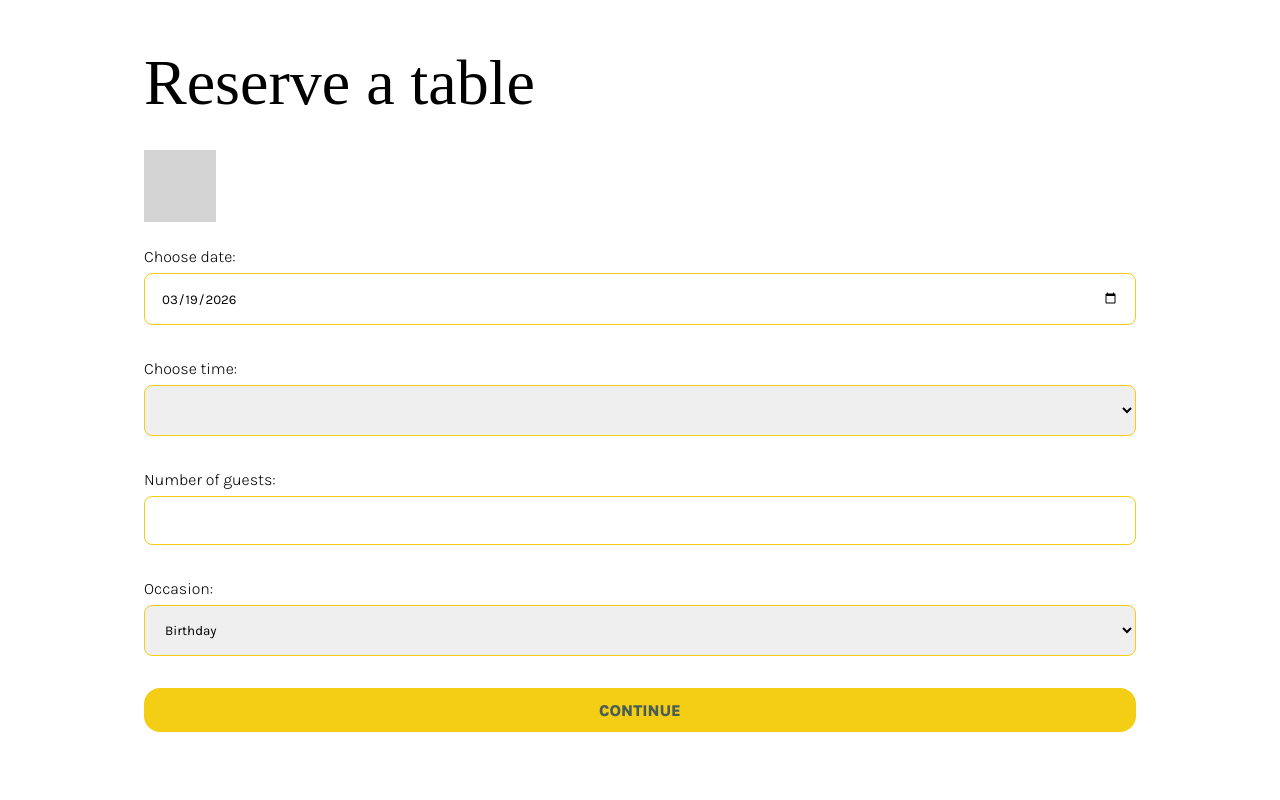
Test case: BookingPage › Booking form errors › should validate the date field
The image size is (1280, 800).
Clear the date field labelled "Choose date:": [640, 299] box [144,273,1136,325]
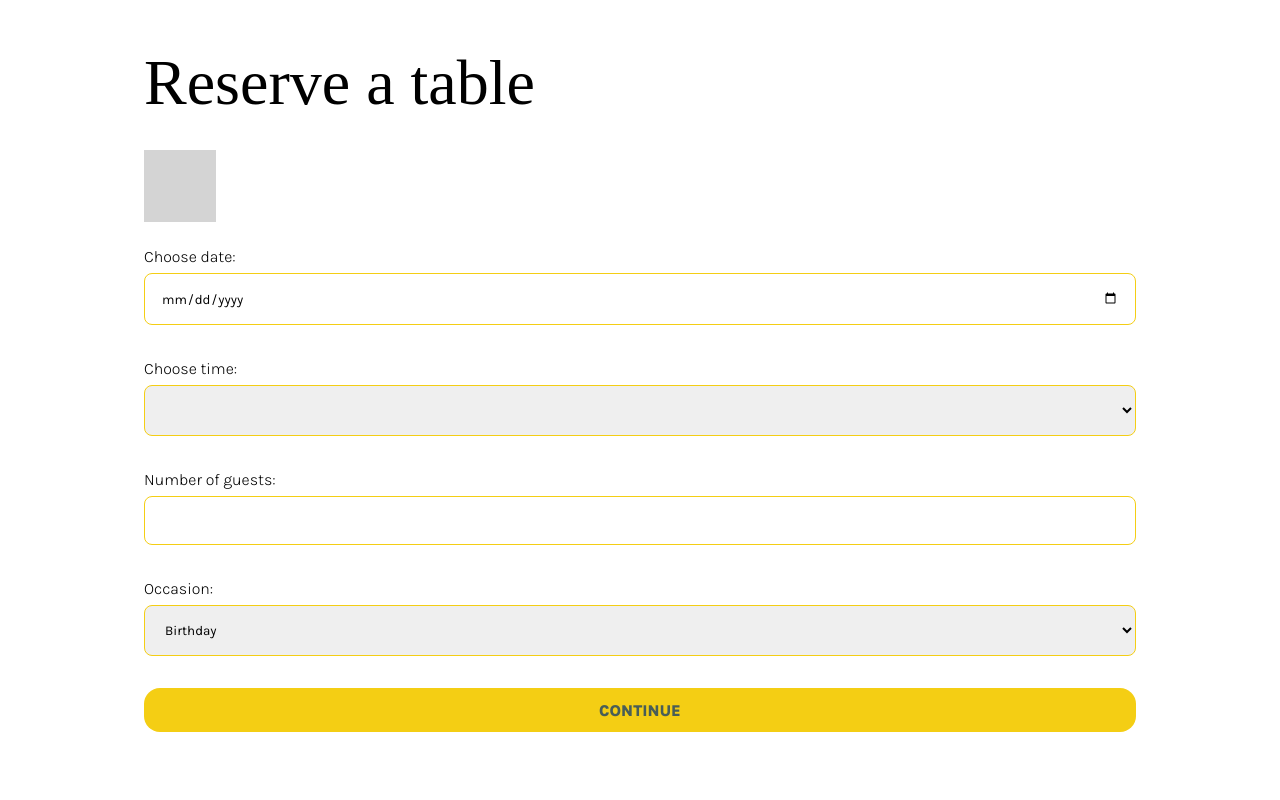
Leave the date field labelled "Choose date:", box [144,273,1136,325]
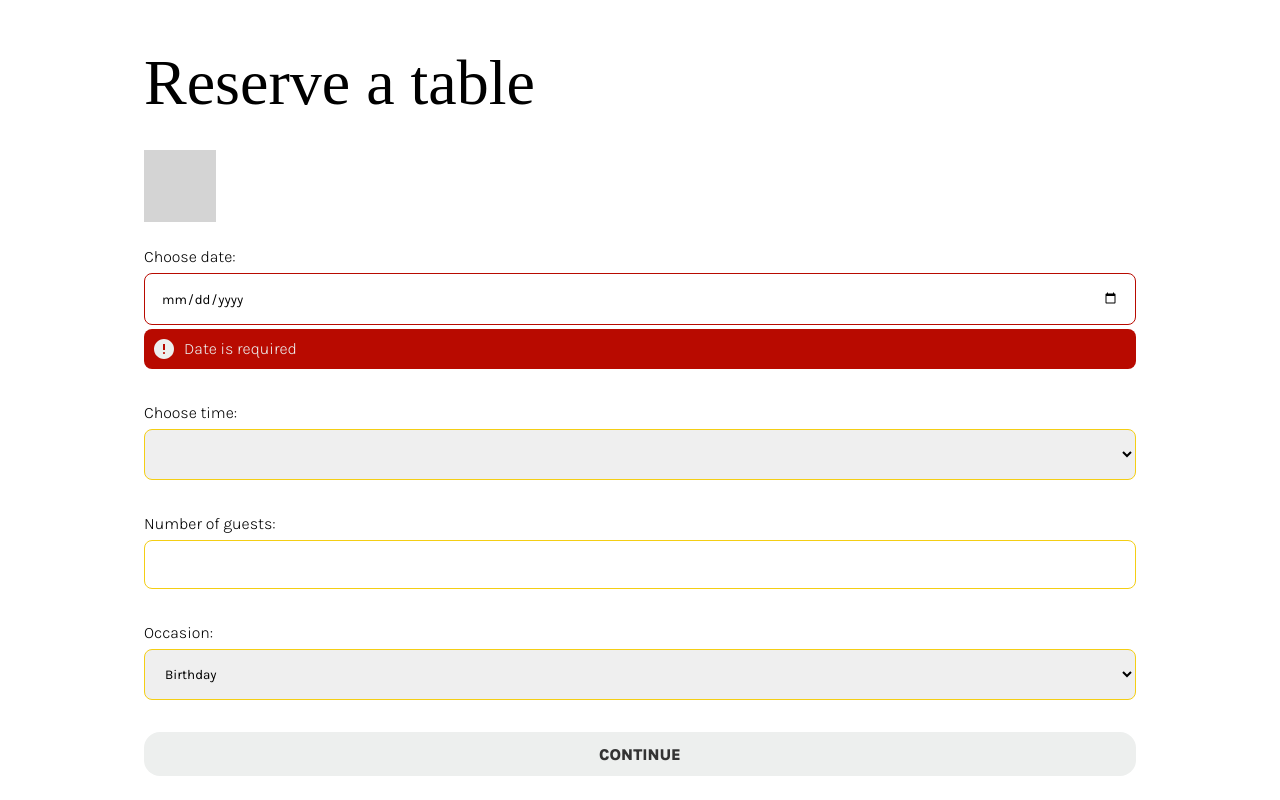
Check: the text "Date is required" is shown, box [184,337,297,361]
